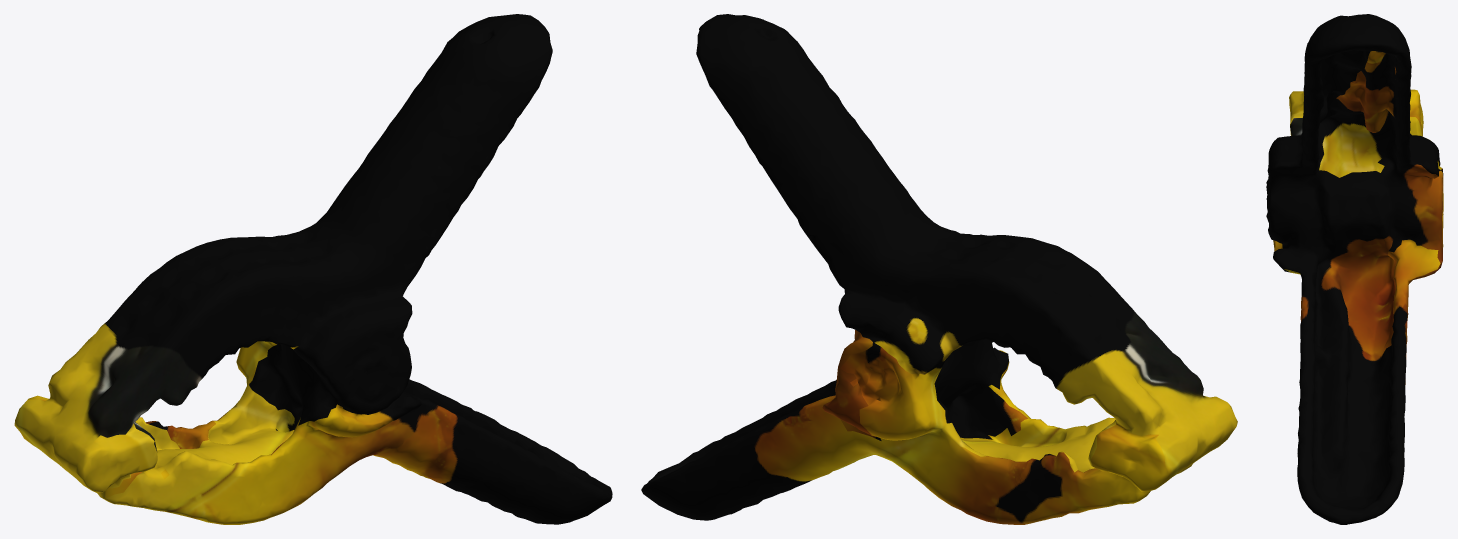
3 renders of one model, left to right at view 1: azimuth 30°, elevation 25°; view 2: azimuth 150°, elevation 25°; view 3: azimuth 270°, elevation 25°, orthographic. The views are drawn at different scales.
Size of the model in its own units: 0.0889 by 0.0768 by 0.0261.
